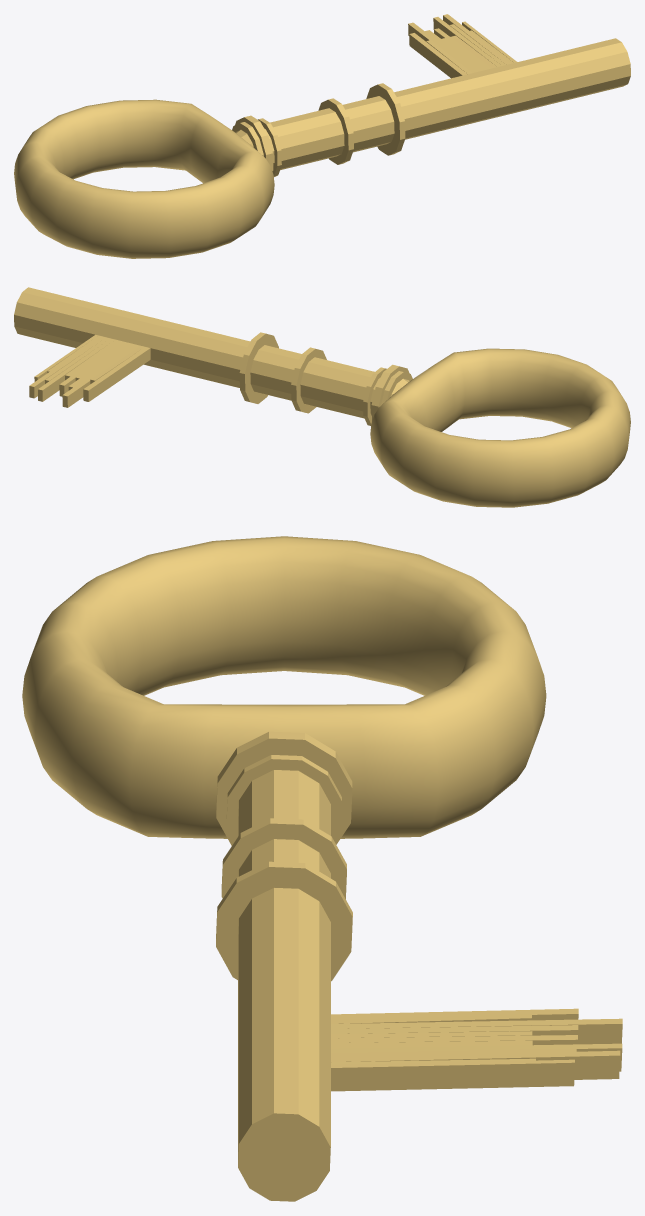
Rendered from Key1.fbx.
3 views of the same model, one above another, from view 1: azimuth 30°, elevation 25°; view 2: azimuth 150°, elevation 25°; view 3: azimuth 270°, elevation 25° (orthographic). The views are drawn at different scales.
Parts seen in each view (by area): view 1: pTorus3; view 2: pTorus3; view 3: pTorus3.
Part boxes in pixels (bbox=[...]): pTorus3: bbox=[14, 14, 630, 258]; pTorus3: bbox=[14, 287, 630, 507]; pTorus3: bbox=[22, 536, 622, 1201].
Size of the model in its own units: 3.78 by 0.4051 by 1.67.
